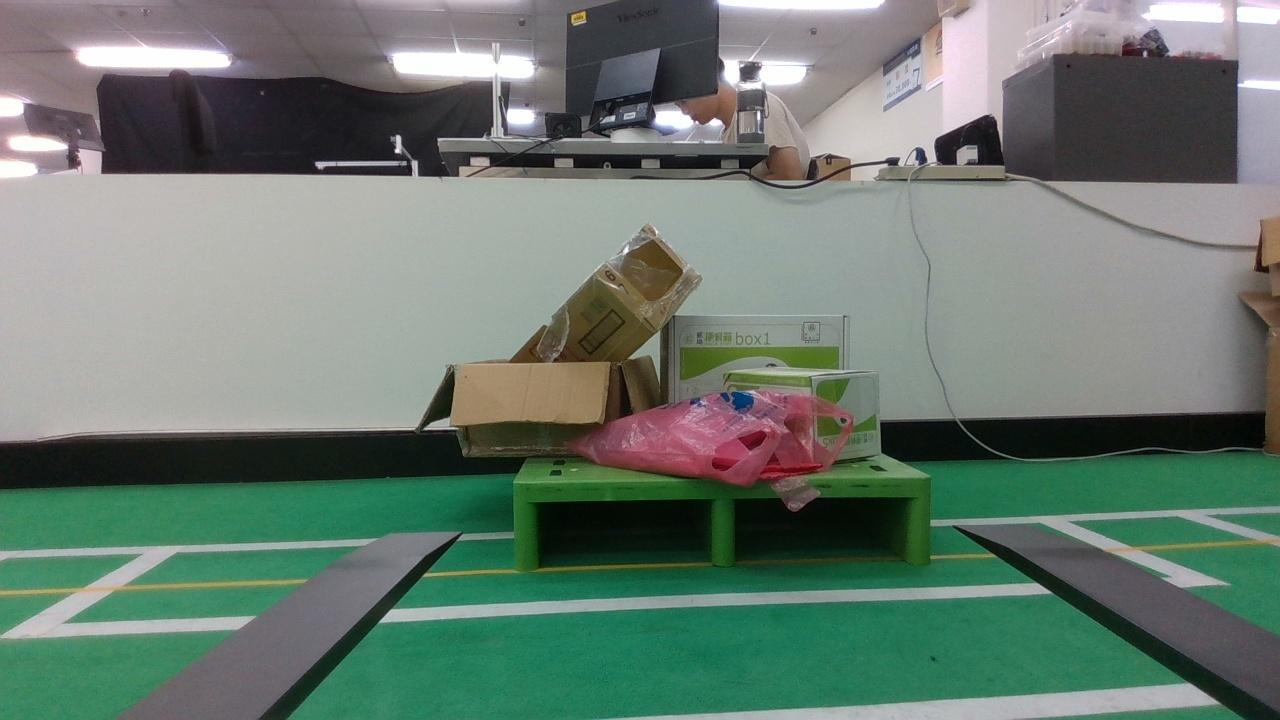Pallet: (513, 476, 930, 571)
